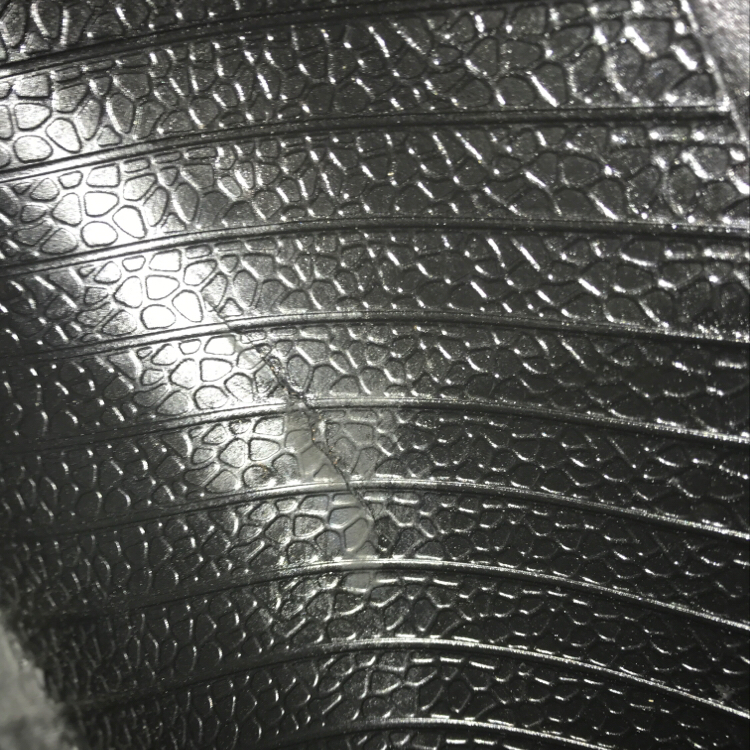CBU: (240, 325, 399, 576)
